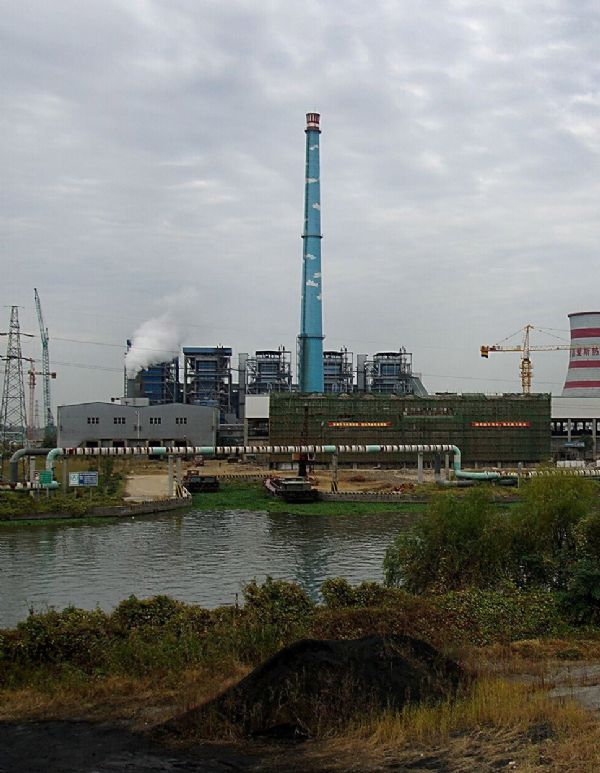dust: (104, 292, 203, 386)
